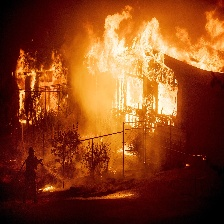fire: (85, 8, 224, 130), (14, 46, 70, 122), (117, 142, 136, 159), (40, 183, 55, 194)
